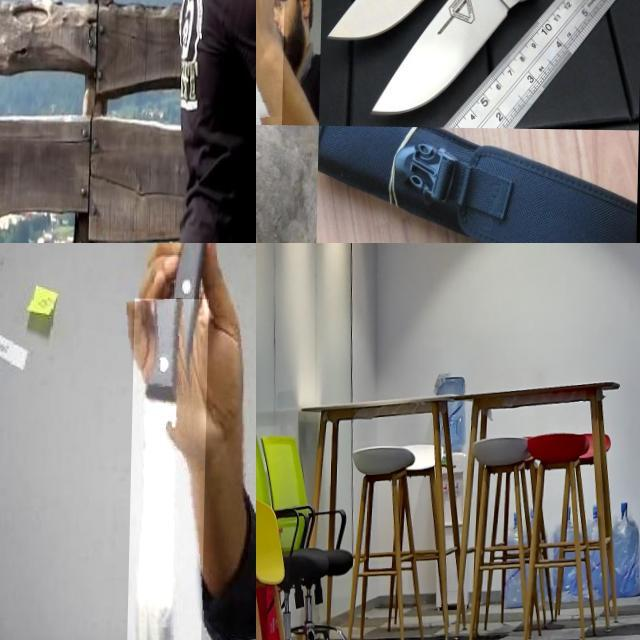-: (365, 0, 640, 140), (326, 0, 614, 115), (128, 297, 209, 640), (256, 0, 336, 124)
